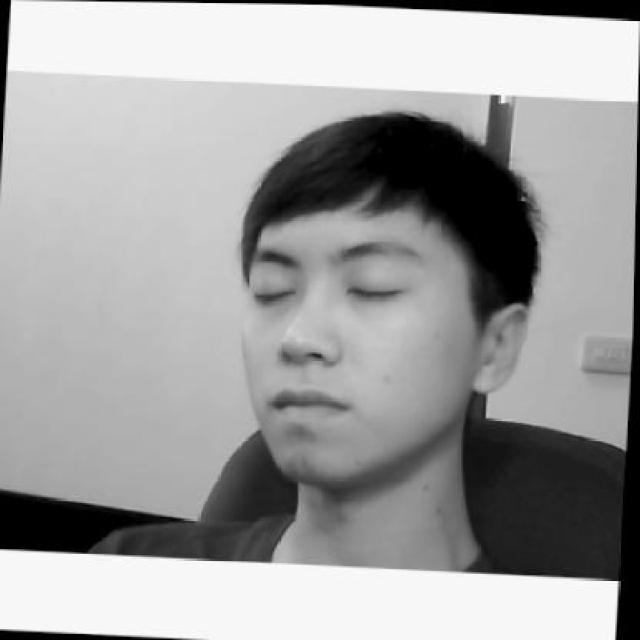inattentif: (232, 98, 540, 491)
